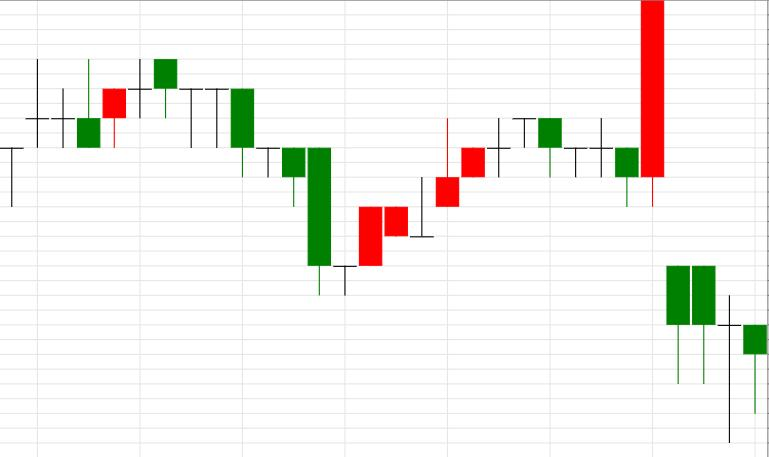bullish_engulfing_rise: (513, 1, 665, 206)
hammer_rise: (641, 1, 769, 444)
morning_star_rise: (154, 59, 382, 296)
